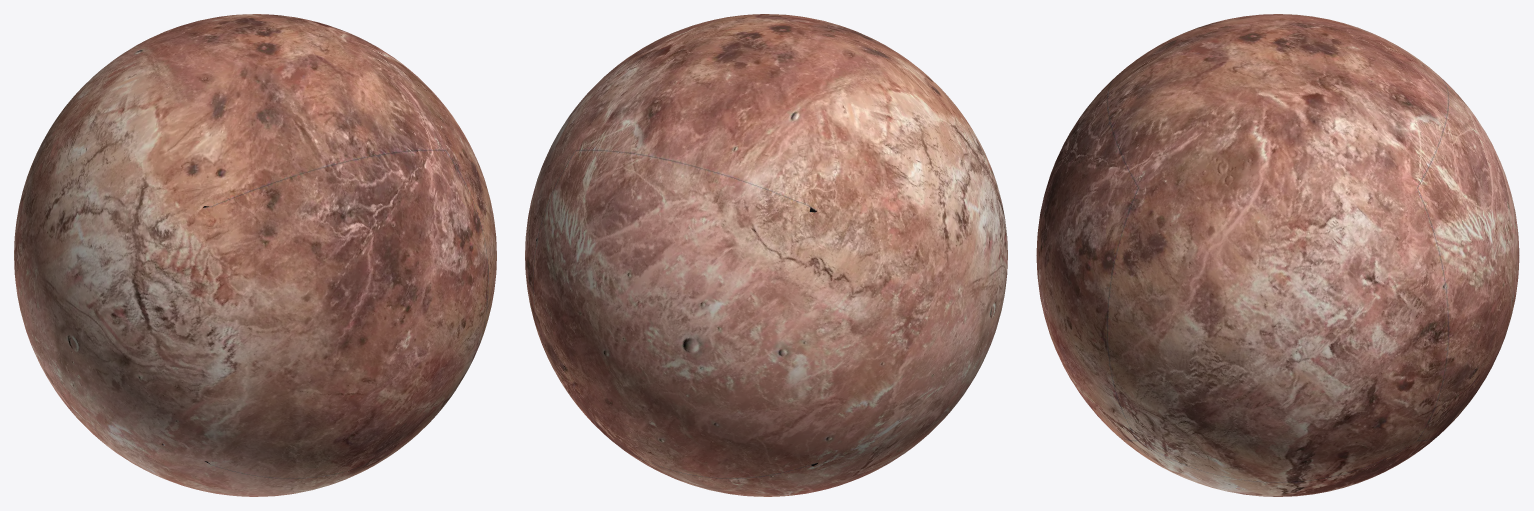
Rendered from nova-v2.glb.
3 views of the same model, side by side, from view 1: azimuth 30°, elevation 25°; view 2: azimuth 150°, elevation 25°; view 3: azimuth 270°, elevation 25° (orthographic).
Parts seen in each view (by area): view 1: Phoenix_LOD0__0; view 2: Phoenix_LOD0__0; view 3: Phoenix_LOD0__0.
Boxes of the visible parts, box(x1,y1,x2,y2) form: Phoenix_LOD0__0: box(14, 14, 496, 496); Phoenix_LOD0__0: box(525, 14, 1007, 496); Phoenix_LOD0__0: box(1036, 14, 1519, 496).
Bounding box in the file's own units: 3.41 × 3.41 × 3.41.
1 material, 1 textured.
